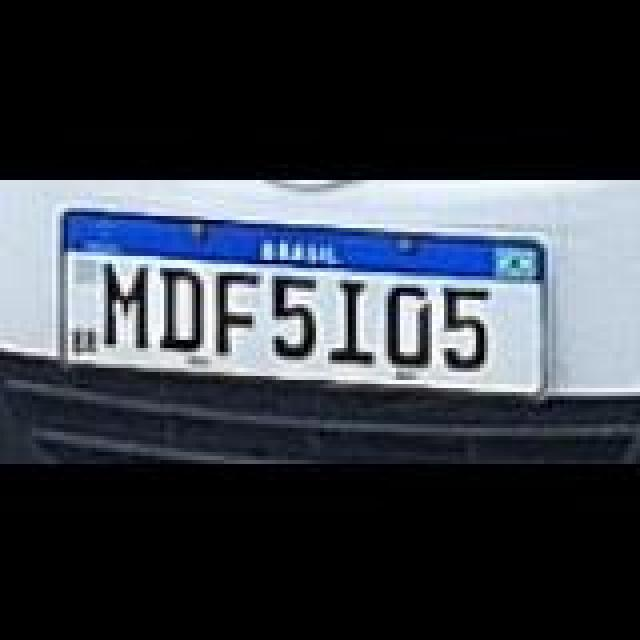5: (270, 270, 322, 354), (442, 282, 494, 366)
D: (148, 266, 204, 350), (382, 282, 434, 366)
F: (214, 270, 266, 354)
I: (332, 278, 380, 362)
M: (100, 260, 156, 348)
